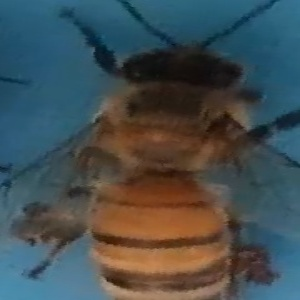bee: (13, 2, 295, 300)
